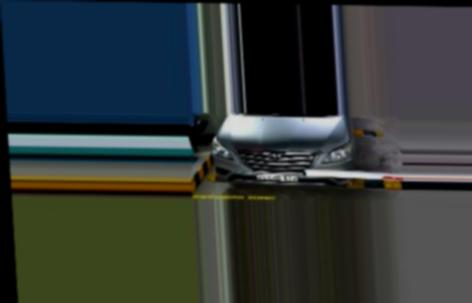License_Plate: (257, 173, 298, 182)
